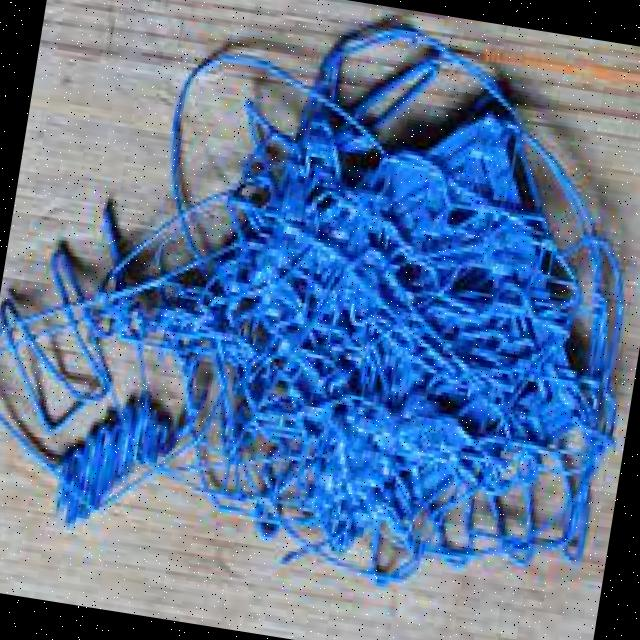spaghetti: (25, 11, 640, 640)
